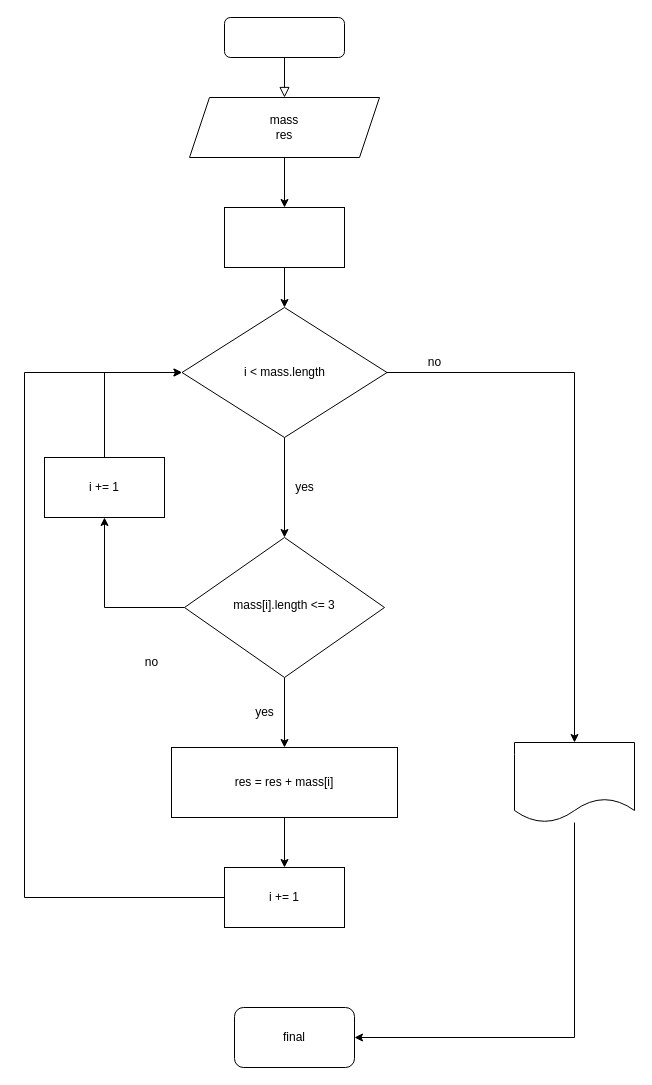
The diagram is 652 pixels wide and 1085 high, and some of its shapes have lost their labels. Here are the shapes that lost their labels. From the top down, the box of each, then its label:
(224, 16, 344, 58): start
(224, 206, 344, 268): i = 0
(514, 742, 634, 822): res
